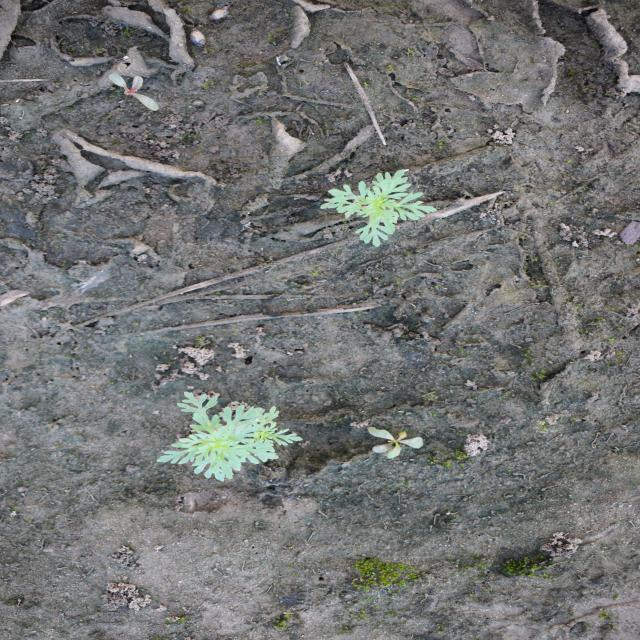Carpetweed: (365, 425, 427, 460)
Ragweed: (154, 390, 306, 484), (320, 168, 440, 249)
